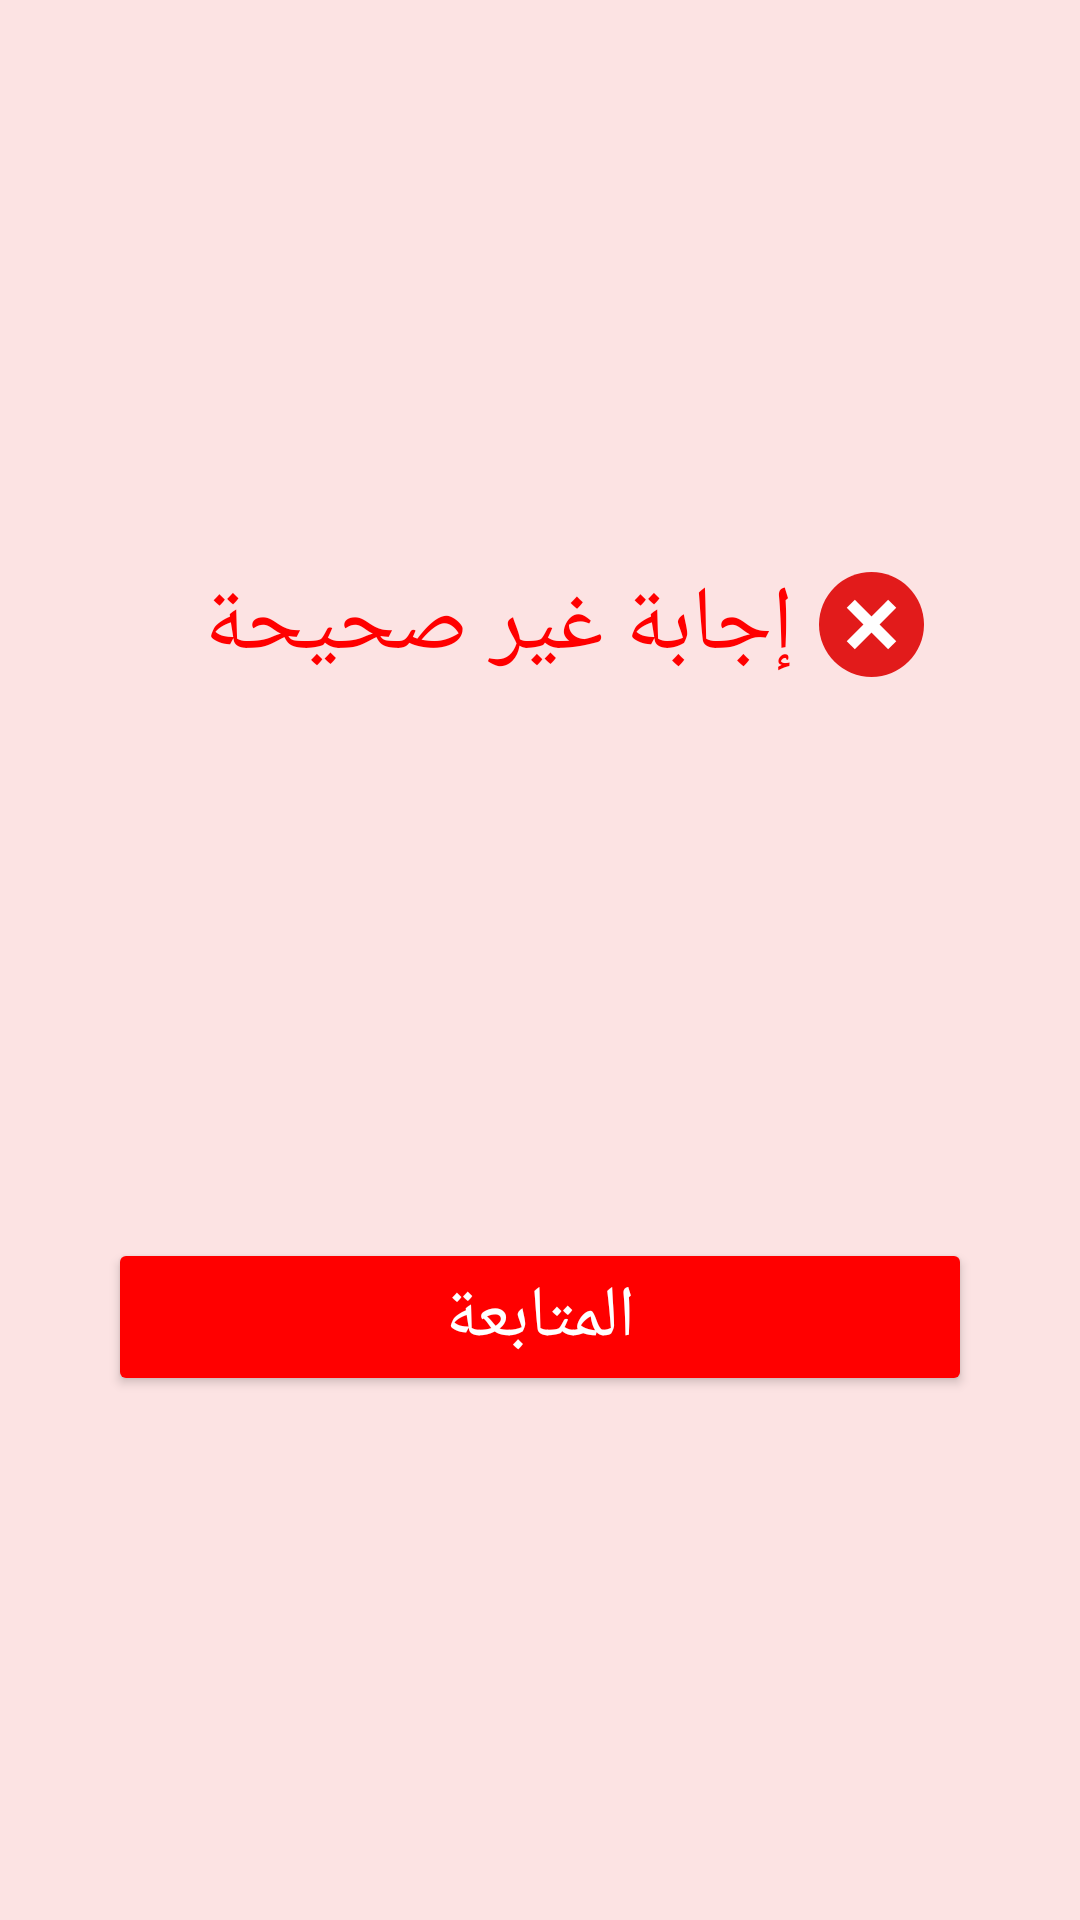

Icons on this 1080 x 1920 Android screen, each with its box as [x1,y1,x2,y2]:
cross: [819,572,924,677]
